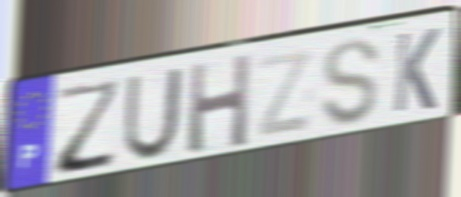H: (186, 50, 253, 157)
K: (390, 25, 442, 116)
S: (318, 36, 382, 129)
U: (120, 64, 186, 164)
Z: (55, 75, 124, 179), (255, 44, 315, 142)
